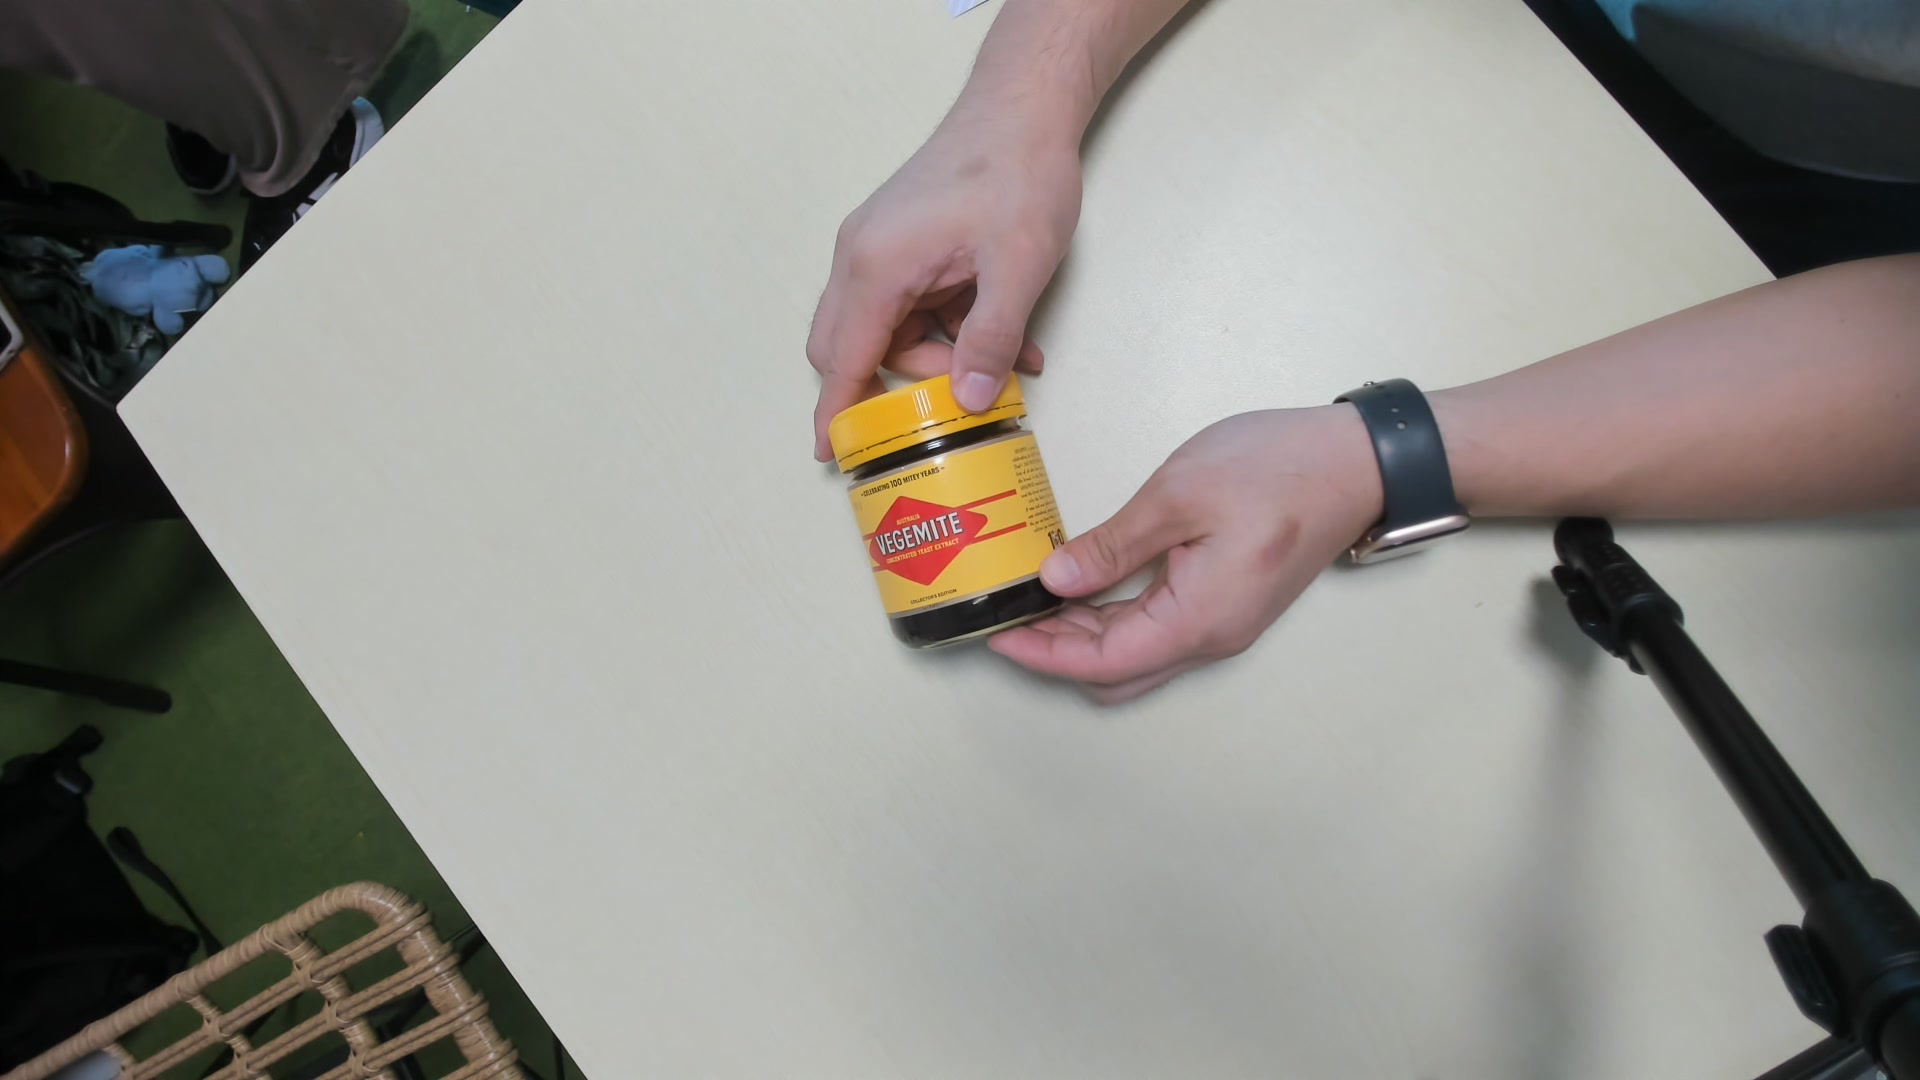OtherSauceDressing_300-399g_Halal_NonHealthy: (823, 364, 1083, 655)
